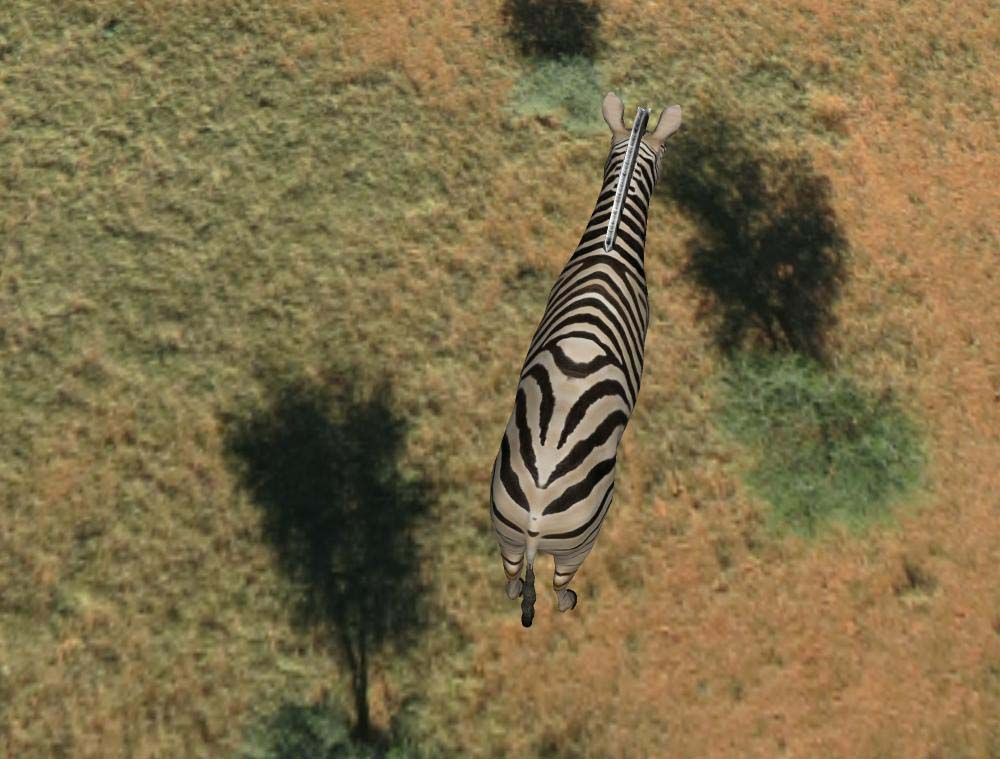zebra: (491, 89, 688, 624)
